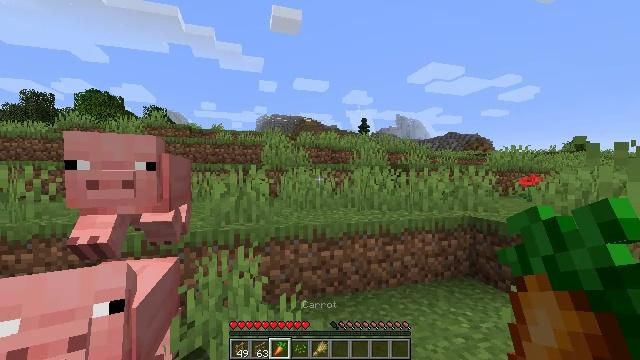pig: (0, 258, 179, 360), (63, 132, 192, 262)
